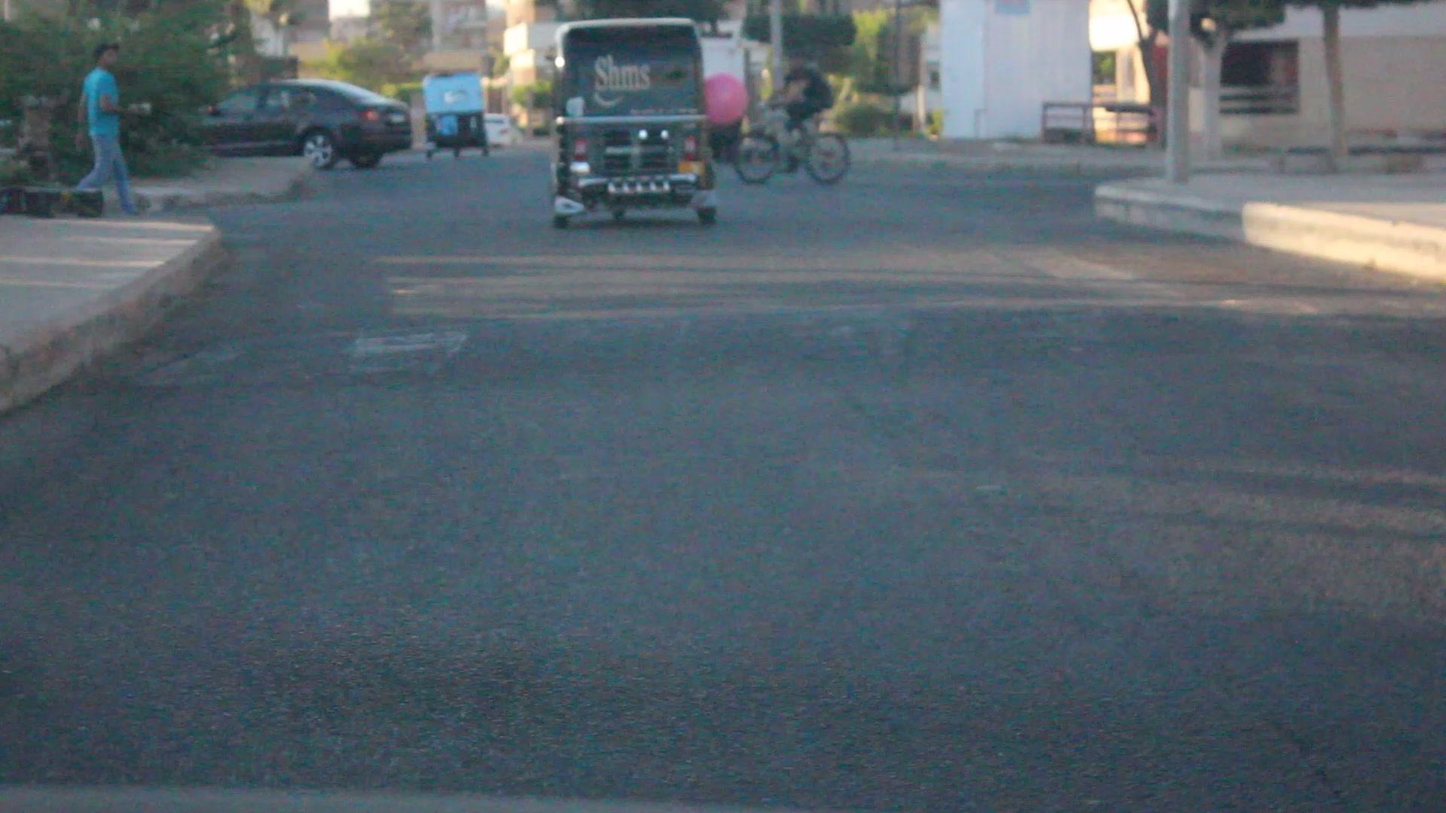Bump: (158, 258, 1446, 386)
